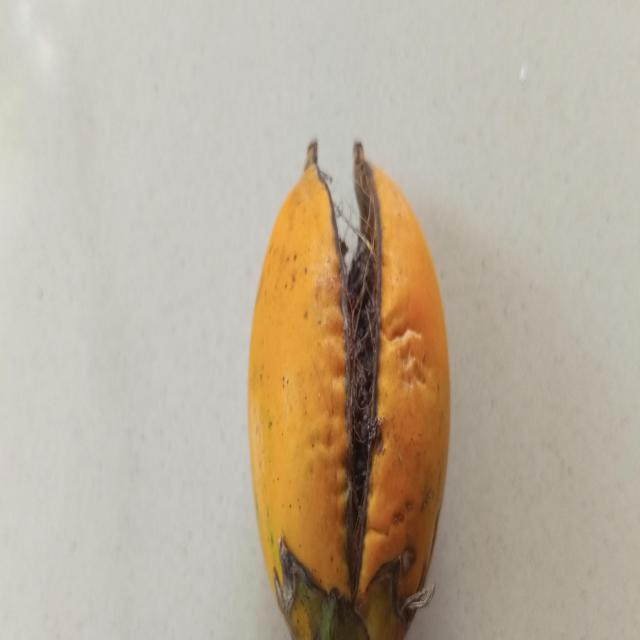damaged: (248, 141, 450, 640)
